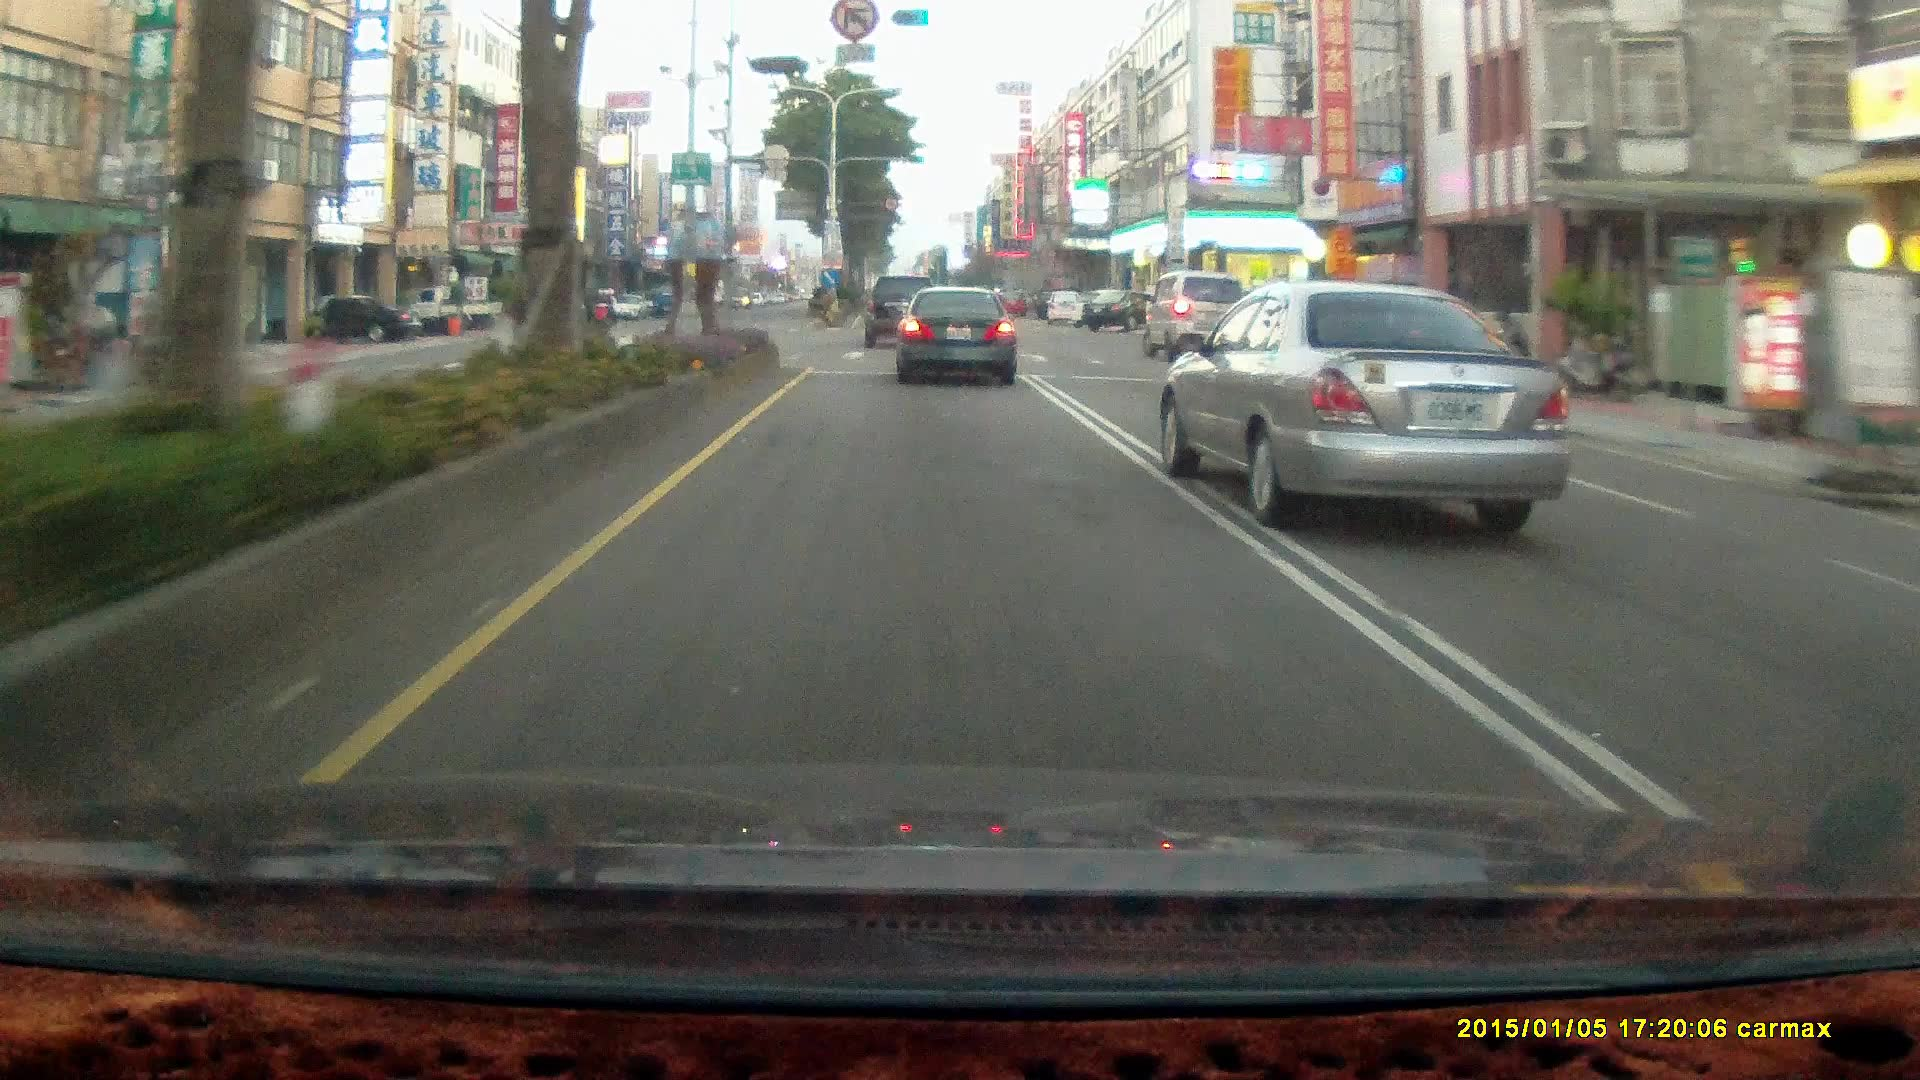rider: (590, 288, 622, 335)
vehicle: (1164, 279, 1588, 530), (897, 284, 1022, 389), (893, 284, 1015, 386), (1145, 270, 1252, 364), (1144, 269, 1250, 362), (297, 293, 414, 349), (283, 294, 415, 343), (863, 274, 942, 351), (863, 274, 939, 347), (408, 286, 506, 338), (401, 285, 499, 331), (1083, 287, 1160, 329), (1042, 286, 1085, 321)
